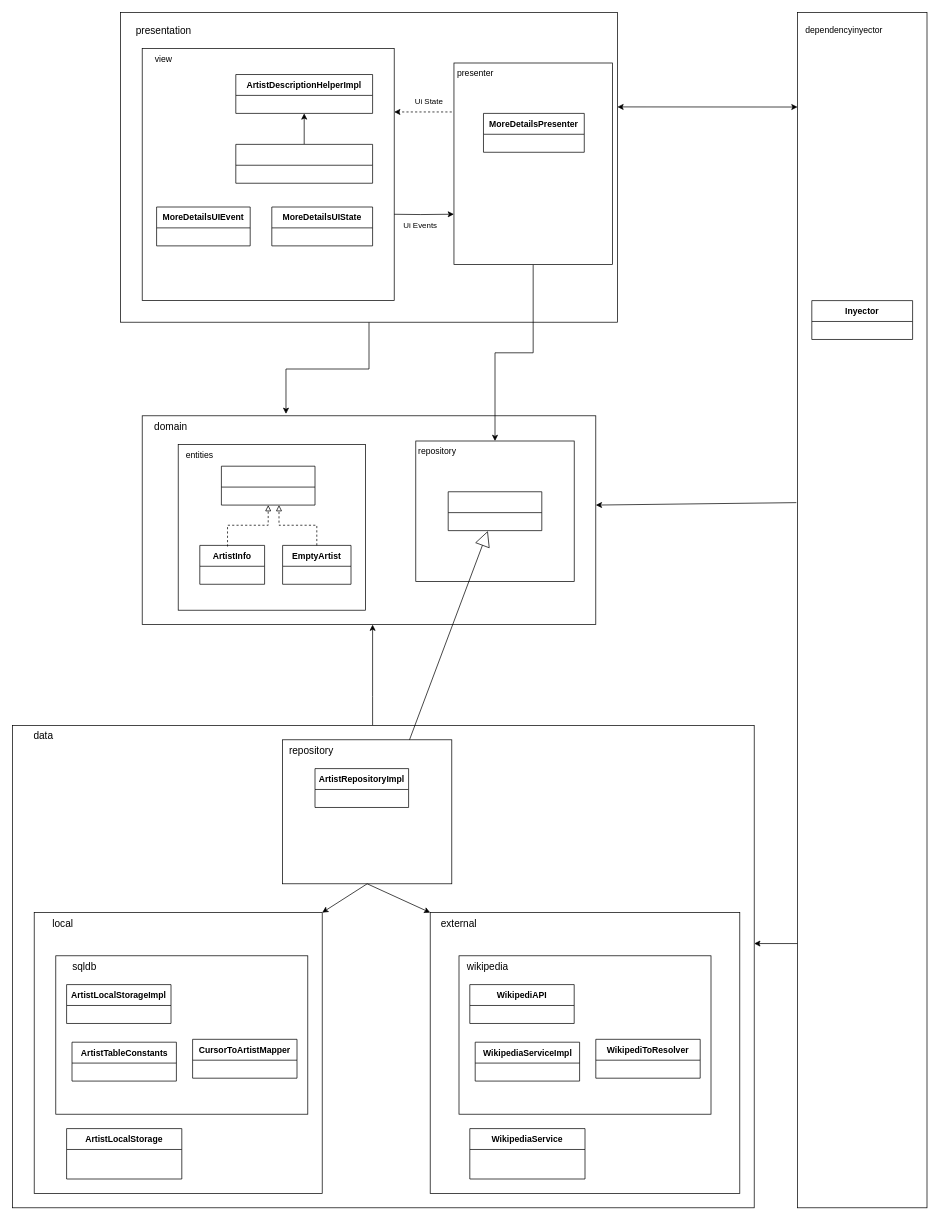
This 940x1220 diagram has some shape labels left out. Here are the shapes that lost their labels. From the top down, the centre of each, then its label:
(x=304, y=163): MoreDetailsView
(x=268, y=485): Artist
(x=494, y=511): ArtistRepository
